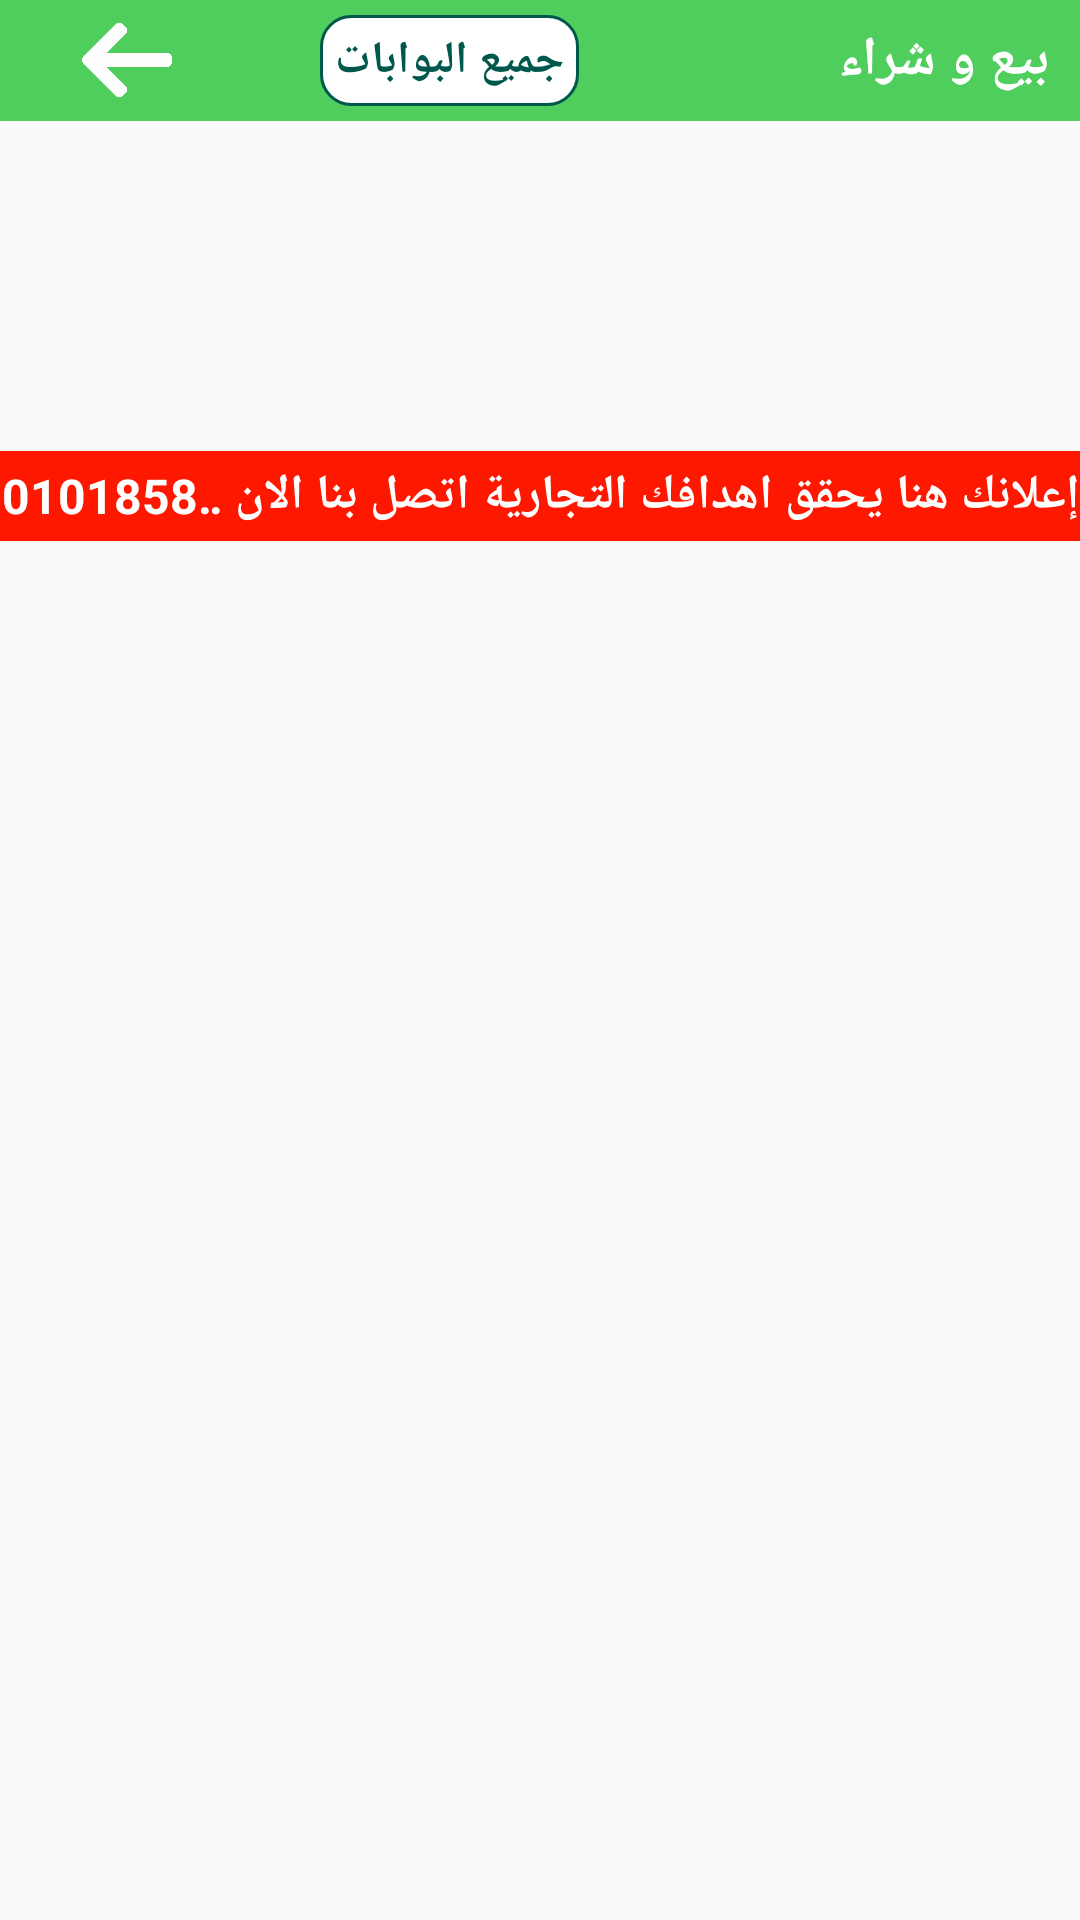

Screen size 1080×1920. Icon name, then its center in pixels as [x,y]:
backyyy: [127,60]
